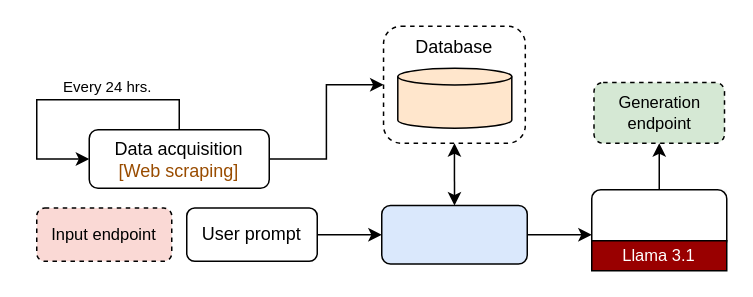
The diagram is 753 pixels wide and 297 high, and some of its shapes have lost their labels. The centre of each missing label's shape, as x and y in pixels:
"ChromaDB" belongs at pixel 454 97.
"Context retrieval" belongs at pixel 453 234.
"Groq API" belongs at pixel 658 219.
